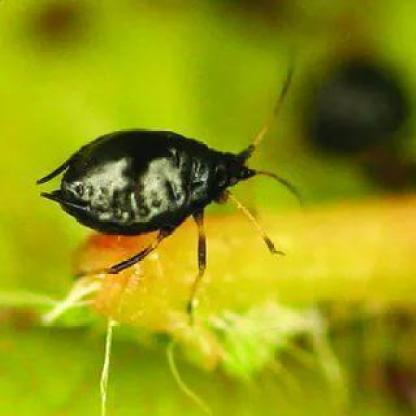aphid: (33, 61, 313, 315)
